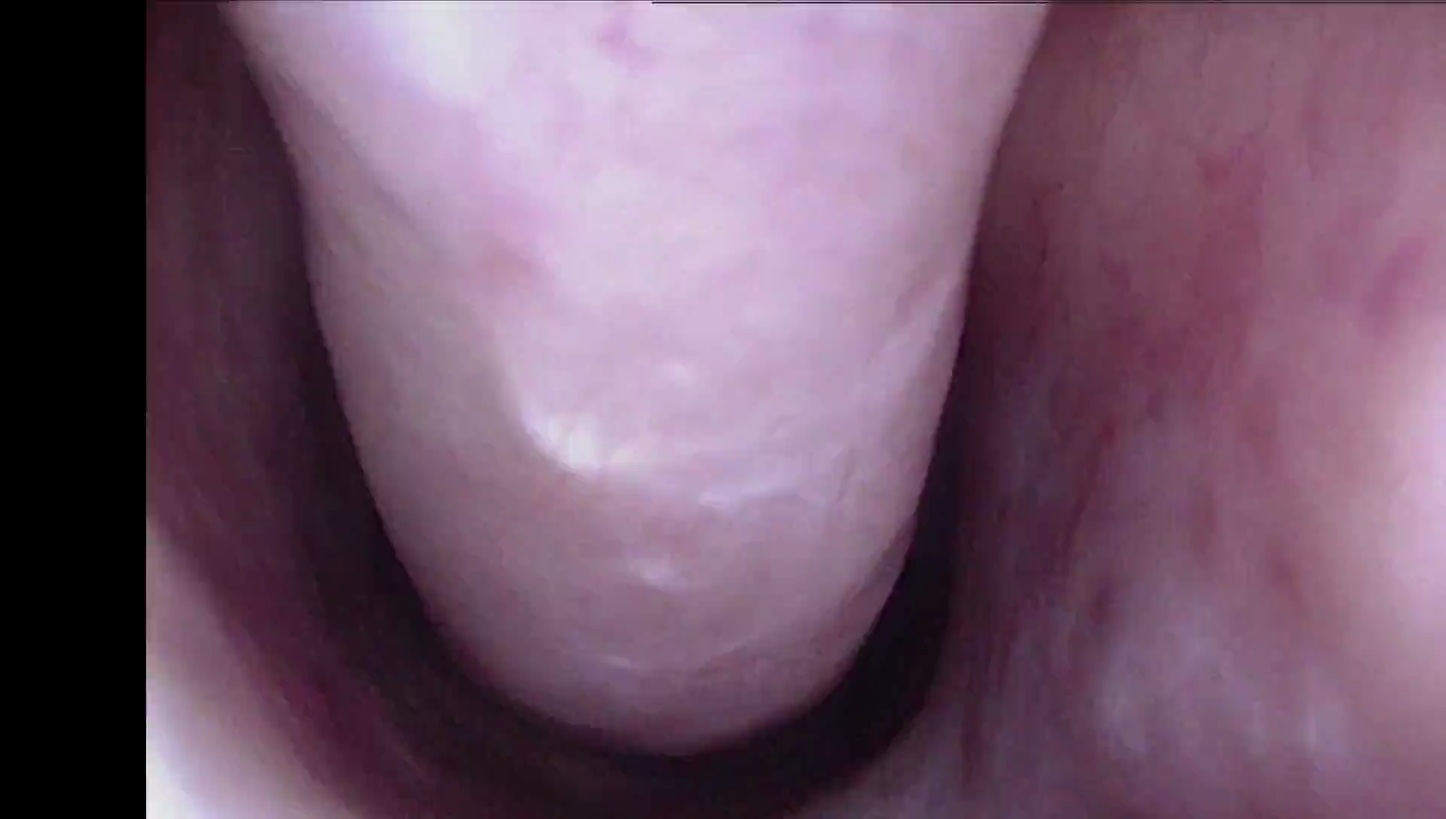close_wall: (328, 0, 940, 431), (1205, 108, 1446, 736), (152, 650, 337, 819)
next: (585, 379, 1028, 808), (262, 303, 483, 751), (404, 660, 919, 819)
